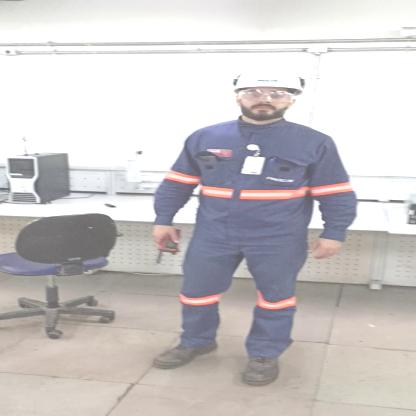Capacete: (227, 63, 312, 95)
